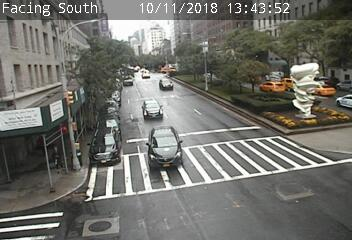car: (148, 126, 182, 169), (90, 127, 120, 165), (142, 100, 162, 120), (307, 83, 336, 96), (260, 81, 285, 94), (280, 78, 300, 91), (158, 79, 173, 91)
